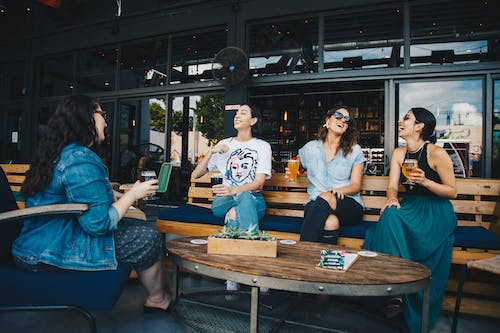alcohol: (139, 169, 159, 201), (401, 158, 419, 185), (210, 172, 224, 198), (286, 158, 300, 184)
